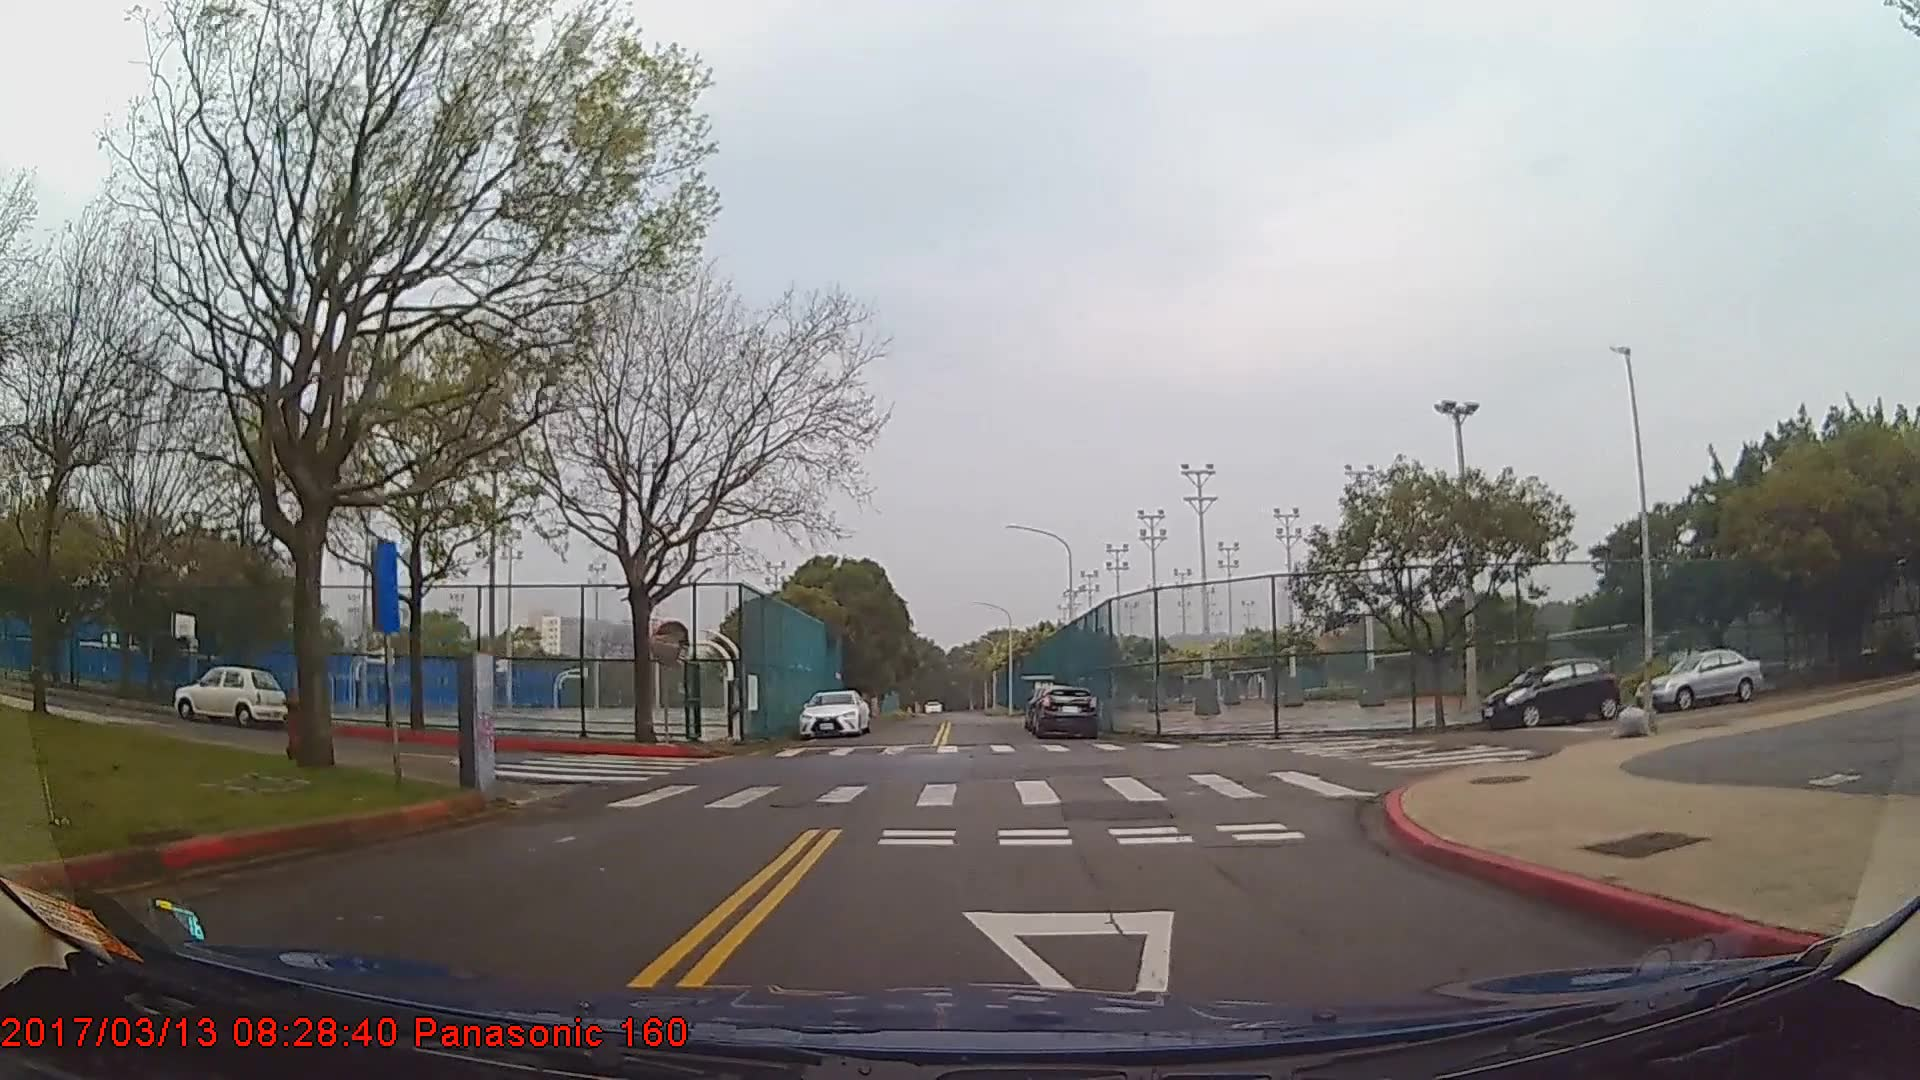vehicle: (1482, 655, 1621, 727), (1634, 645, 1764, 711), (170, 665, 285, 728), (1026, 684, 1097, 740), (796, 690, 868, 738)
